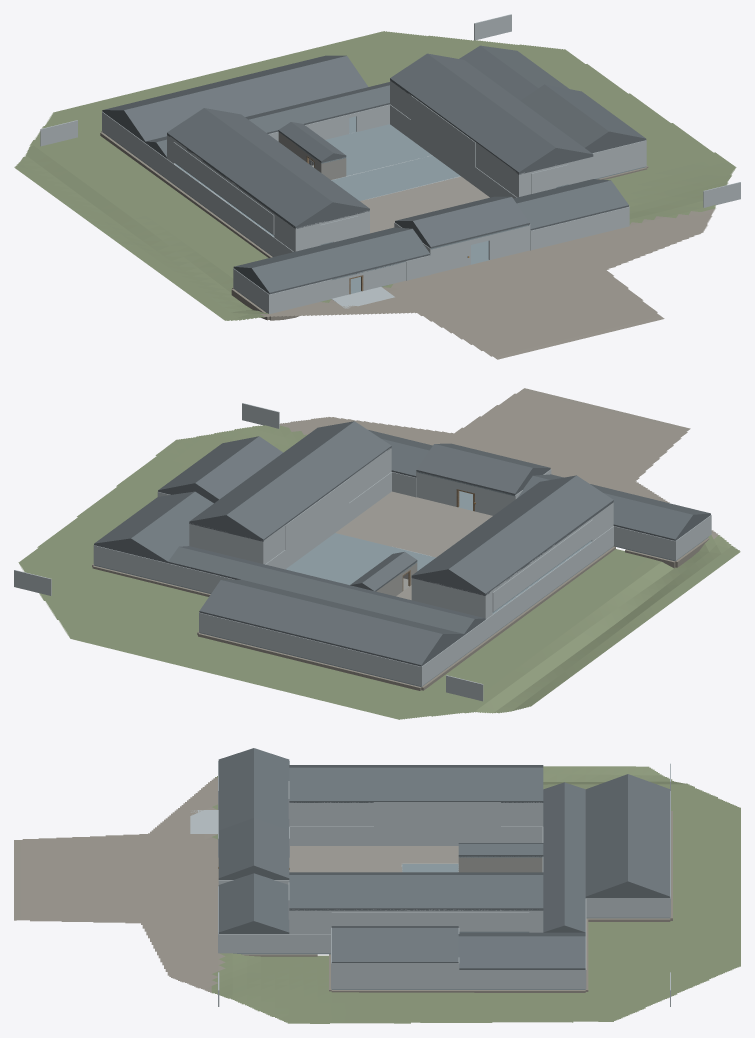
Rendered from prison-vehicle-sally.glb.
The picture shows the model from 3 angles, top to bottom: view 1: azimuth 30°, elevation 25°; view 2: azimuth 150°, elevation 25°; view 3: azimuth 270°, elevation 25°; orthographic projection.
Parts seen in each view (by area): view 1: Saved editor geographic earthworks PRISON, food-and-medical roof south, east-cellhouse roof west, west-cellhouse roof west, intake-and-visitors roof south, PRISON secure exercise yard pavement region0, sally-port roof south, guard-and-staff roof south, Ceiling cap plant, Ceiling cap laundry, east-cellhouse roof east, west-cellhouse roof east (+34 smaller); view 2: Saved editor geographic earthworks PRISON, food-and-medical roof north, west-cellhouse roof west, east-cellhouse roof west, PRISON secure exercise yard pavement region0, north-cross roof north, sally-port roof north, east-cellhouse roof east, west-cellhouse roof east, intake-and-visitors roof north, isolation roof west, chapel roof west (+31 smaller); view 3: Saved editor geographic earthworks PRISON, west-cellhouse roof east, east-cellhouse roof east, food-and-medical roof south, food-and-medical roof north, chapel roof east, isolation roof east, PRISON secure exercise yard pavement region0, Wall chapel E, north-cross roof north, north-cross roof south, Wall a-rear-bypass E (+31 smaller).
Part boxes in pixels (x1,y1,x2,y2): Saved editor geographic earthworks PRISON: (14,31,736,359); food-and-medical roof south: (124,56,368,141); east-cellhouse roof west: (390,53,555,173); west-cellhouse roof west: (167,108,332,227); intake-and-visitors roof south: (251,229,430,293); PRISON secure exercise yard pavement region0: (360,176,489,233); sally-port roof south: (413,197,529,248); guard-and-staff roof south: (517,180,628,230); Ceiling cap plant: (325,124,431,175); Ceiling cap laundry: (331,155,460,200); east-cellhouse roof east: (428,53,593,155); west-cellhouse roof east: (204,108,369,209); Saved editor geographic earthworks PRISON: (18,388,740,719); food-and-medical roof north: (199,580,442,666); west-cellhouse roof west: (448,475,613,594); east-cellhouse roof west: (226,421,391,540); PRISON secure exercise yard pavement region0: (335,491,492,599); north-cross roof north: (168,547,474,634); sally-port roof north: (416,444,532,494); east-cellhouse roof east: (189,421,353,522); west-cellhouse roof east: (411,475,576,576); intake-and-visitors roof north: (517,476,693,540); isolation roof west: (131,491,213,562); chapel roof west: (195,436,283,500); Saved editor geographic earthworks PRISON: (14,766,740,1023); west-cellhouse roof east: (289,767,543,802); east-cellhouse roof east: (289,875,543,909); food-and-medical roof south: (585,774,627,897); food-and-medical roof north: (628,774,670,897); chapel roof east: (331,928,458,963); isolation roof east: (458,936,585,969); PRISON secure exercise yard pavement region0: (289,846,458,872); Wall chapel E: (331,963,458,989); north-cross roof north: (564,782,585,932); north-cross roof south: (543,782,564,932); Wall a-rear-bypass E: (430,802,500,845).
Size of the model in its own units: 87 by 12.74 by 103.
Materials: 53 (28 with a texture image).
